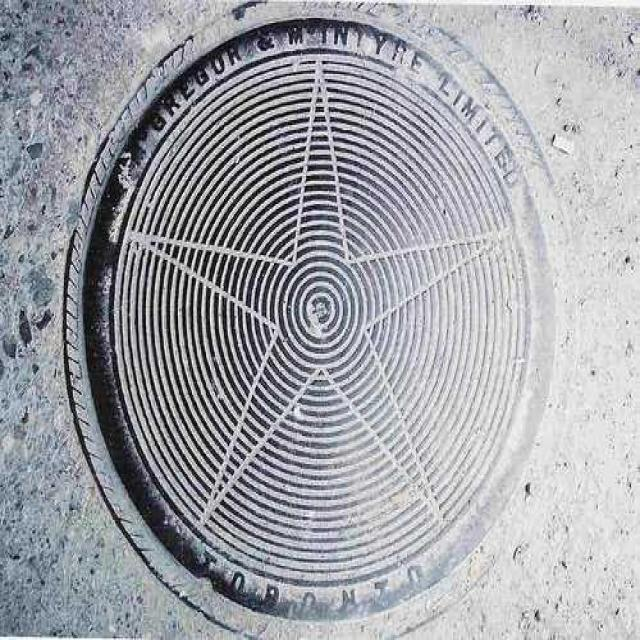manhole: (64, 8, 558, 624)
